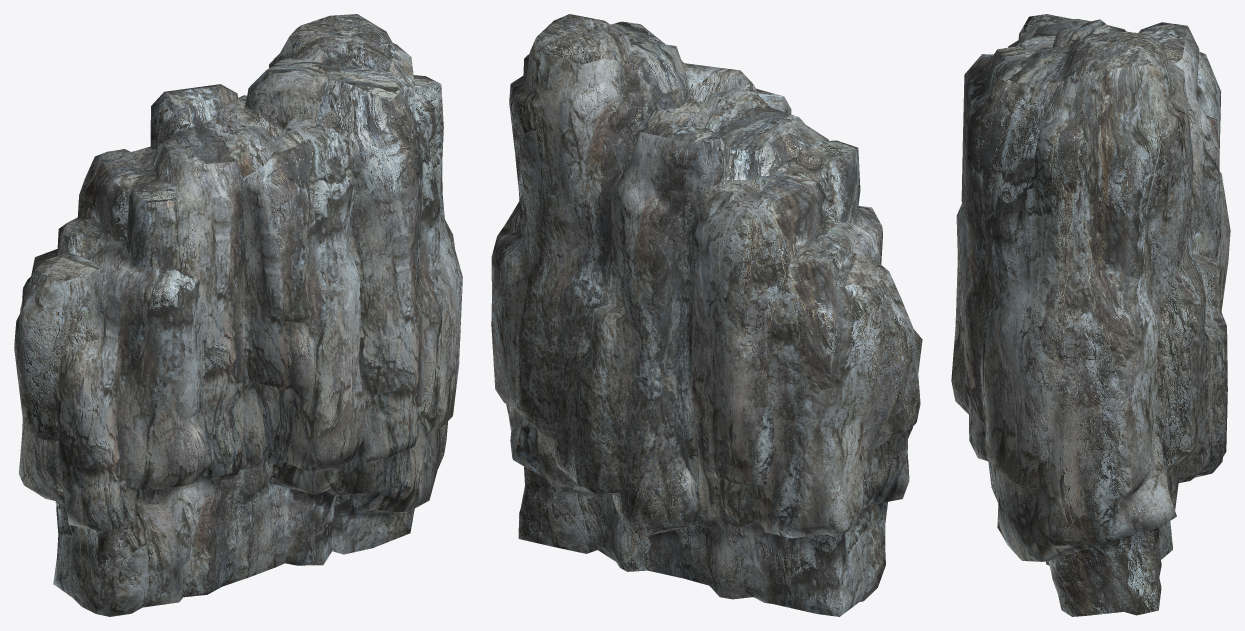
File: Cliff1A.fbx
The picture shows the model from 3 angles, left to right: view 1: azimuth 30°, elevation 25°; view 2: azimuth 150°, elevation 25°; view 3: azimuth 270°, elevation 25°; orthographic projection. The views are drawn at different scales.
Visible parts, largest first — view 1: polySurface116; view 2: polySurface116; view 3: polySurface116.
Part boxes in pixels (<box>): polySurface116: <box>14,14,462,616</box>; polySurface116: <box>491,14,922,616</box>; polySurface116: <box>951,14,1230,616</box>.
Size of the model in its own units: 16.99 by 20.02 by 9.14.
